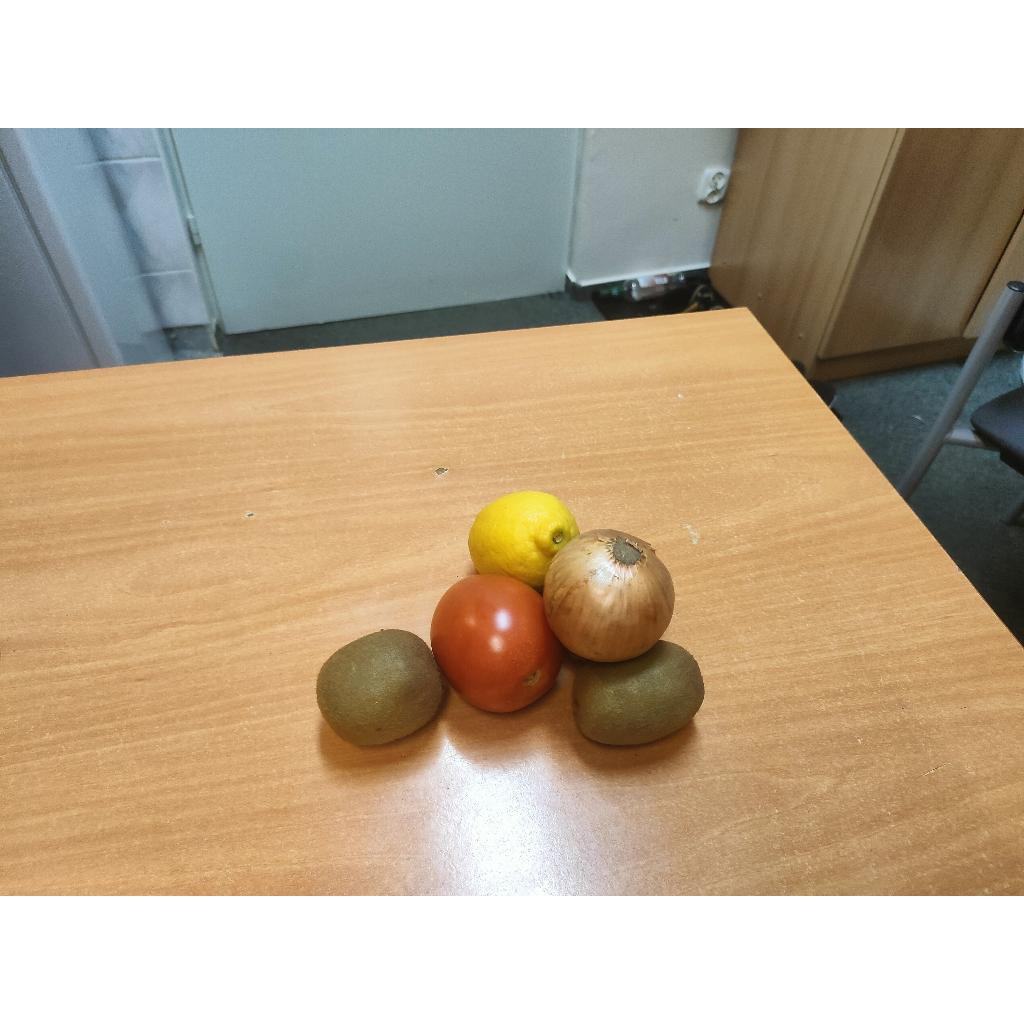kiwi: (316, 630, 442, 744), (572, 640, 704, 744)
lemon: (468, 492, 580, 590)
orange: (544, 530, 674, 662)
tomato: (430, 574, 564, 712)
